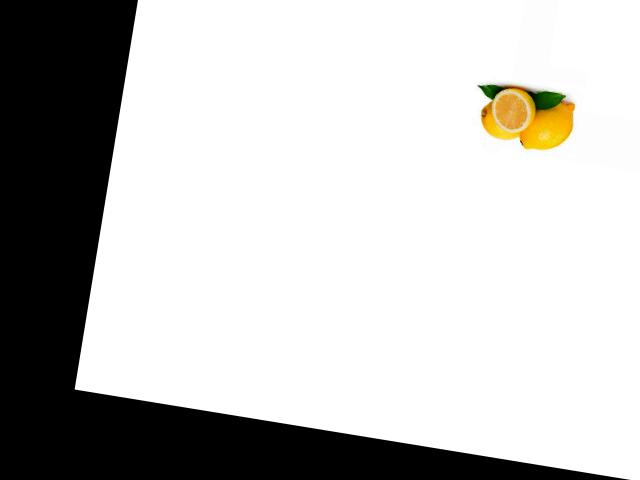lemon: (489, 80, 540, 135)
